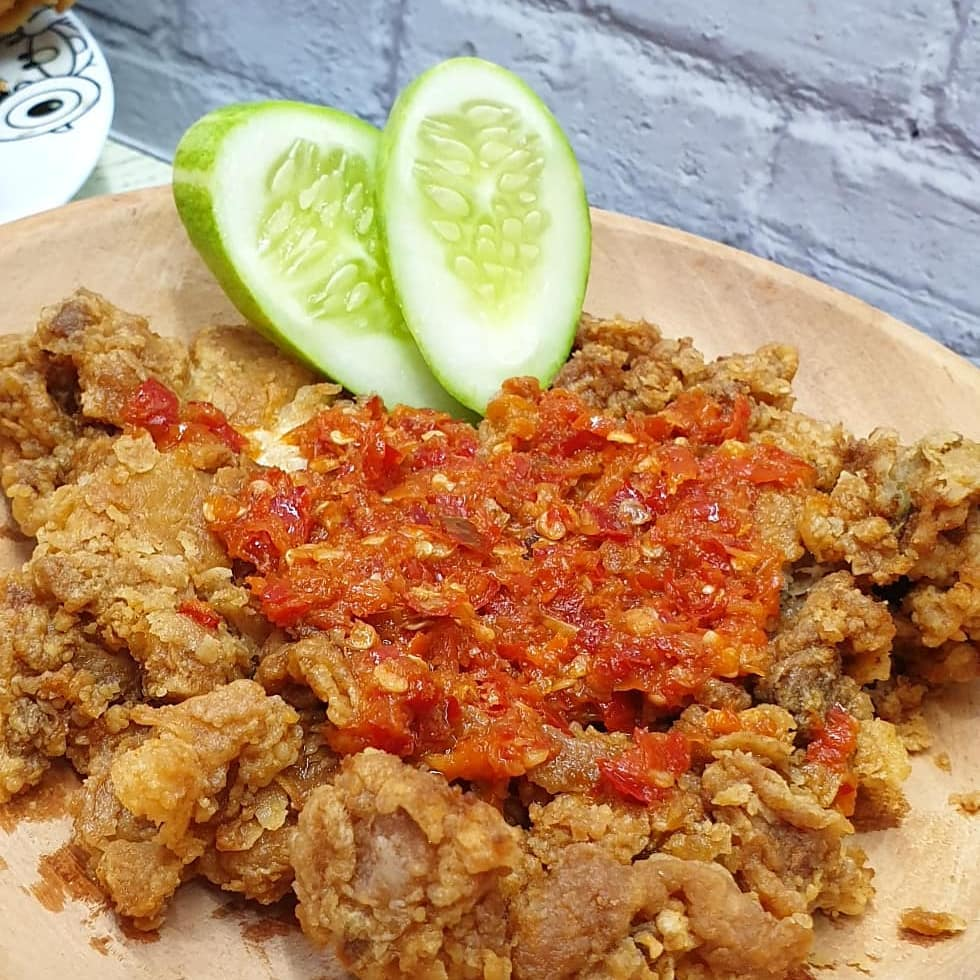ayam_geprek: (65, 329, 952, 937)
